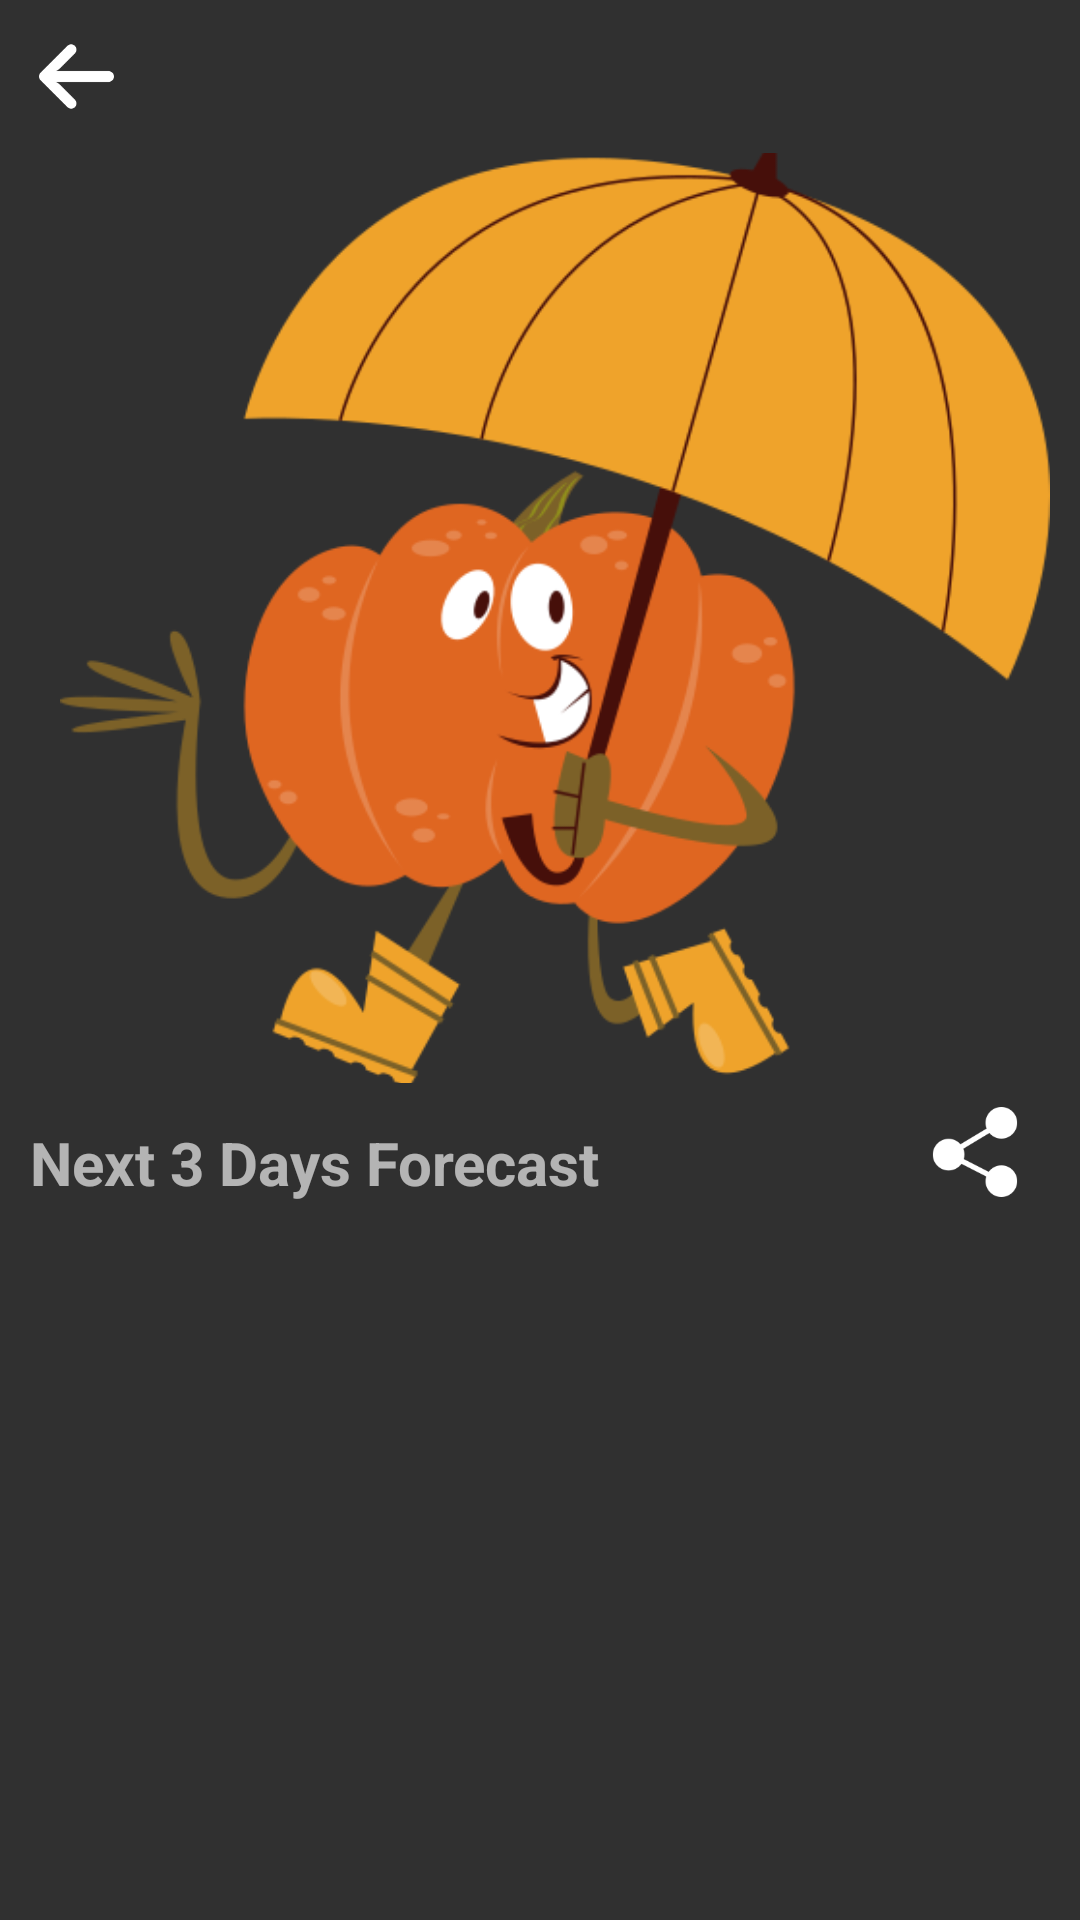

Icon click points for this 1080×1920 phone screenshot, format point (x, y):
back: point (76, 76)
share: point (975, 1152)
